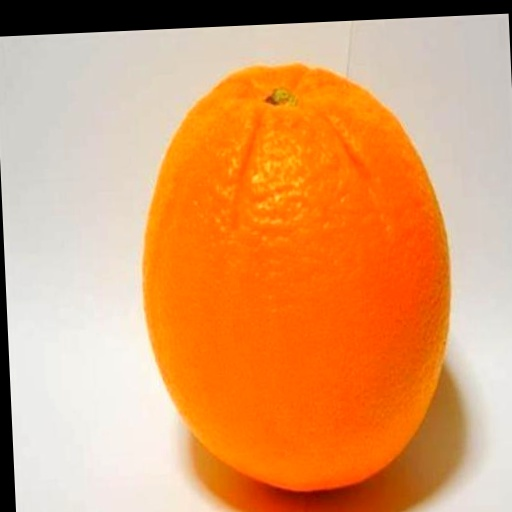fruit: (144, 66, 449, 490)
